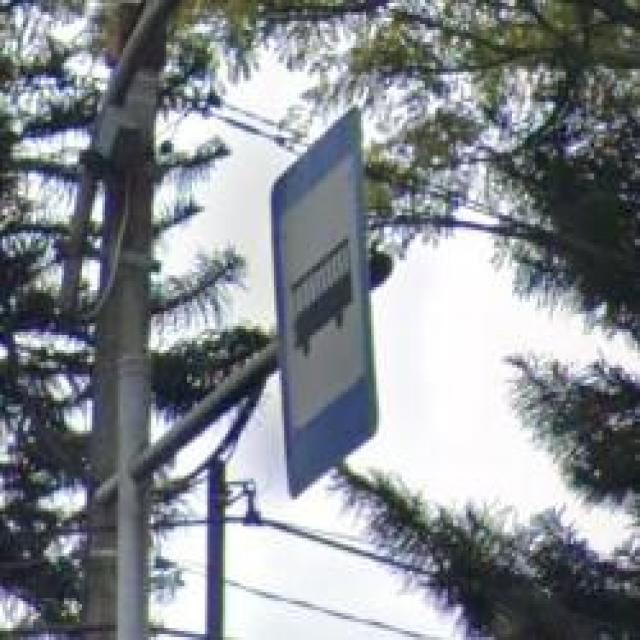bus_stop: (276, 117, 379, 500)
